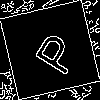P: (25, 25, 82, 78)
